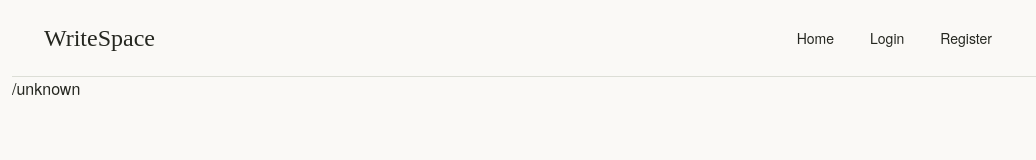
Test: PublicNavbar › navigates via the Login link only when activated
Expected: the text named "Current route" reads "/unknown", [12,77,80,100]
Click the link "Login": (887, 38) [870,28,904,48]
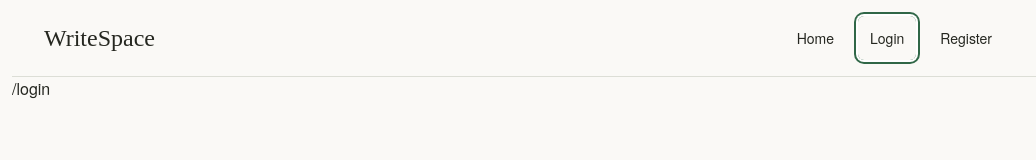
Expected: the text named "Current route" reads "/login", [12,77,50,100]
